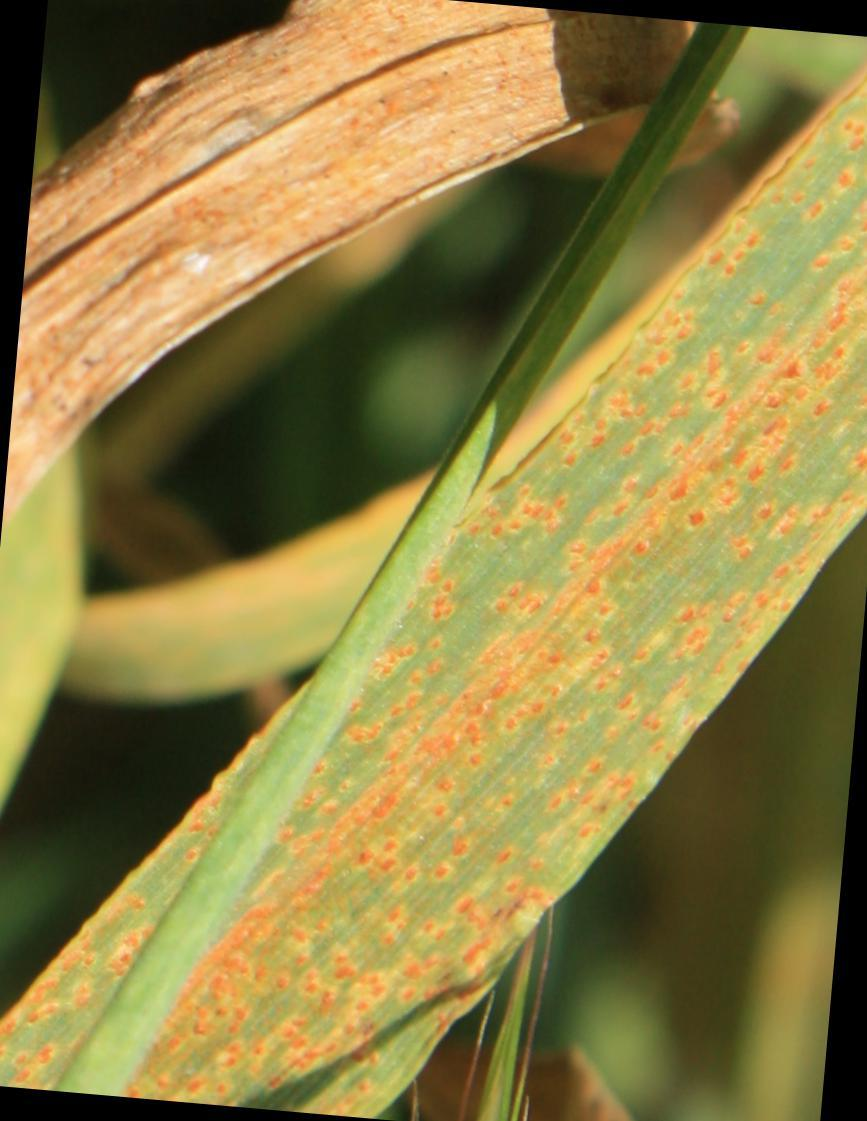Wheat: (452, 117, 850, 773), (170, 597, 611, 1112)
